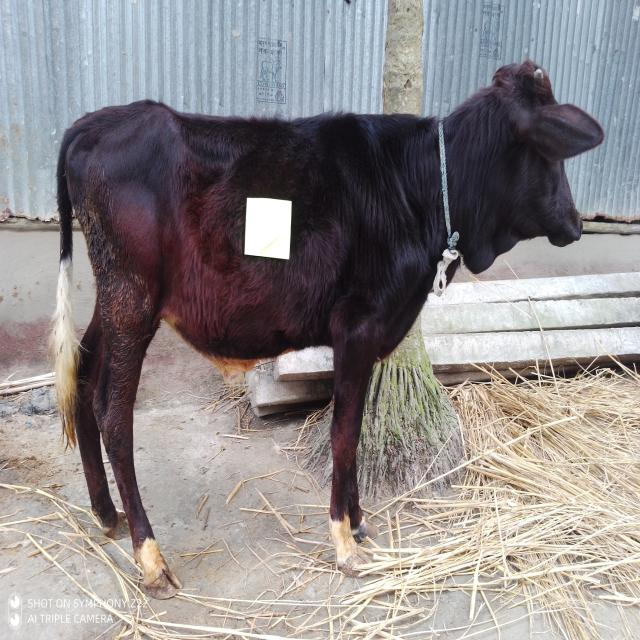badan_sapi: (84, 115, 388, 356)
sapi: (40, 57, 612, 605)
